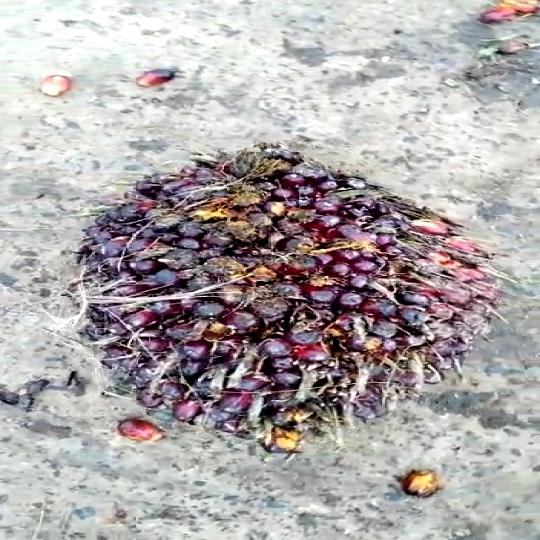masak: (78, 143, 500, 455)
